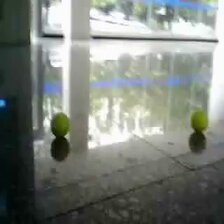tennis: (49, 113, 71, 136), (191, 110, 208, 131)
